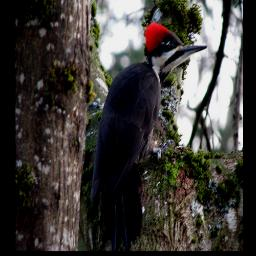Woodpecker: (85, 20, 210, 245)
